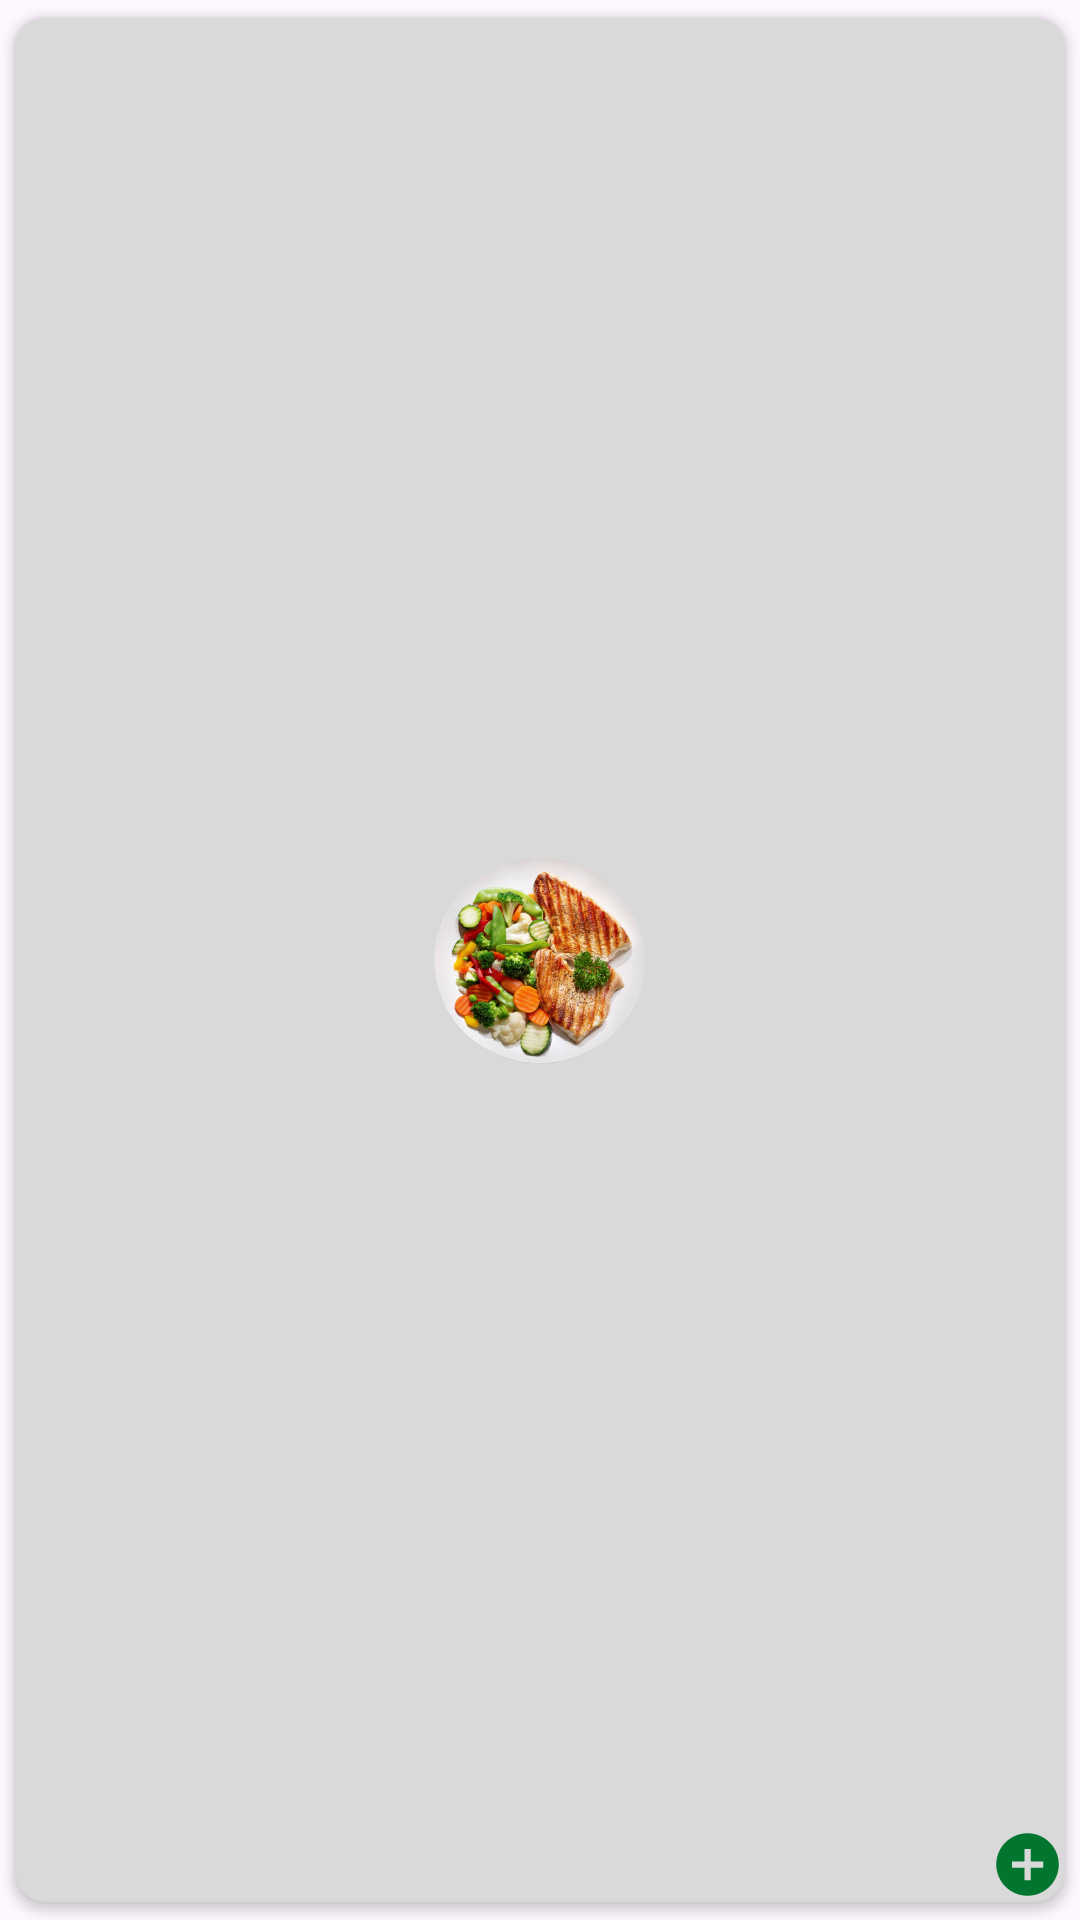

Icons on this 1080 × 1920 Android screen, each with the point to tap as (x=x, y=y):
add: (x=1027, y=1864)
food plate: (x=540, y=964)
